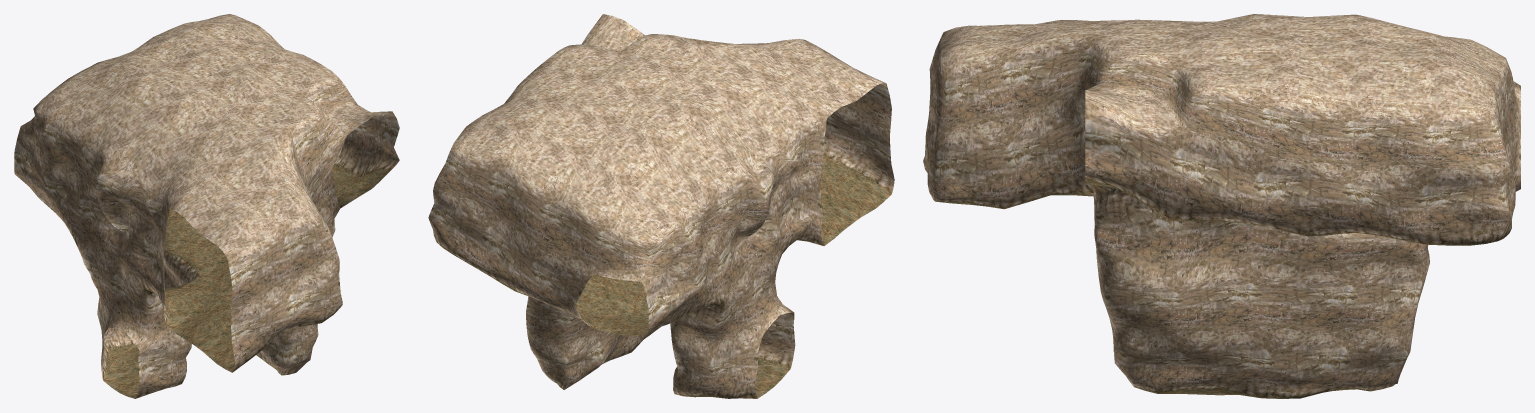
Rendered from thm_all_cave_s02_mirror_r2_mesh_r2.fbx.
3 renders of one model, left to right at view 1: azimuth 30°, elevation 25°; view 2: azimuth 150°, elevation 25°; view 3: azimuth 270°, elevation 25°, orthographic. The views are drawn at different scales.
Parts seen in each view (by area): view 1: mesh_node; view 2: mesh_node; view 3: mesh_node.
Boxes of the visible parts, left/top/right/bottom form: mesh_node: left=14, top=14, right=399, bottom=398; mesh_node: left=428, top=14, right=894, bottom=398; mesh_node: left=923, top=14, right=1520, bottom=398.
Size of the model in its own units: 43.2 by 47.58 by 71.62.
